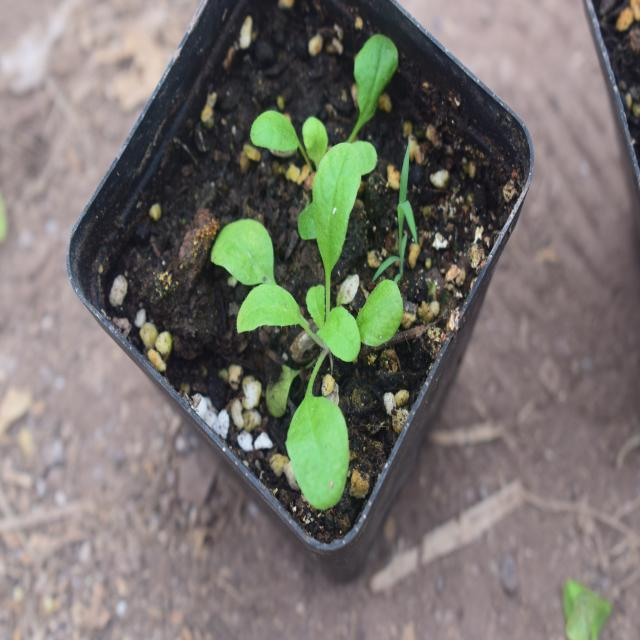Shepherd_Purse: (221, 142, 407, 492)
